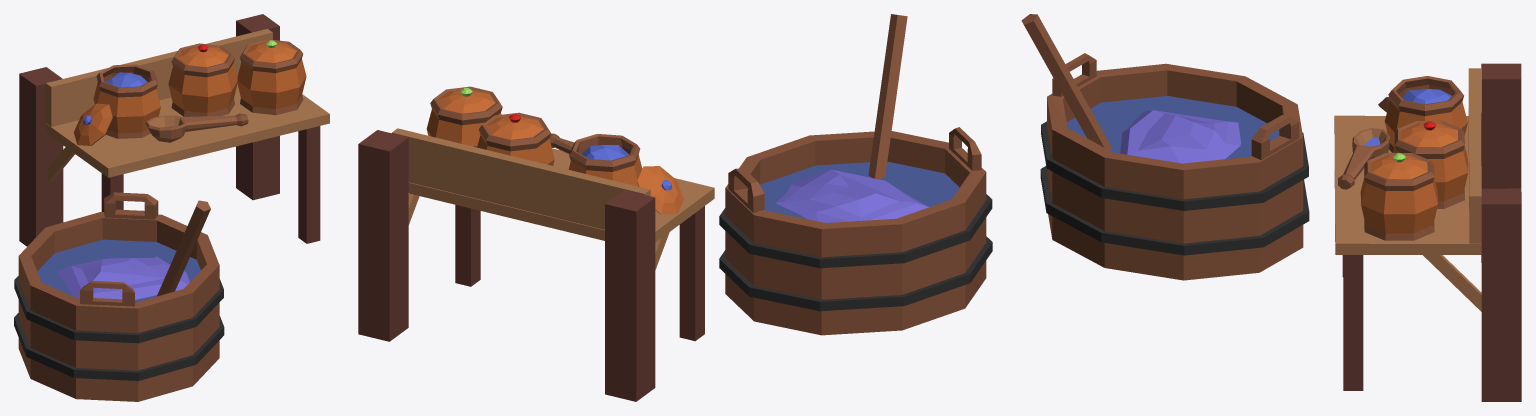
The model's file is fabric_coloring_1.fbx.
3 views of the same model, side by side, from view 1: azimuth 30°, elevation 25°; view 2: azimuth 150°, elevation 25°; view 3: azimuth 270°, elevation 25° (orthographic). The views are drawn at different scales.
Visible parts, largest first — view 1: bucket.001, bench.001, spoon, fabric.003; view 2: bench.001, bucket.001, fabric.003, spoon; view 3: bucket.001, bench.001, spoon, fabric.003.
Boxes of the visible parts, left/top/right/bottom form: bucket.001: left=14, top=192, right=224, bottom=401; bench.001: left=19, top=14, right=329, bottom=246; spoon: left=73, top=39, right=306, bottom=145; fabric.003: left=37, top=200, right=210, bottom=302; bench.001: left=358, top=128, right=714, bottom=401; bucket.001: left=719, top=127, right=992, bottom=335; fabric.003: left=760, top=14, right=959, bottom=222; spoon: left=426, top=86, right=683, bottom=214; bucket.001: left=1040, top=53, right=1309, bottom=280; bench.001: left=1334, top=63, right=1521, bottom=401; spoon: left=1338, top=76, right=1468, bottom=240; fabric.003: left=1021, top=14, right=1279, bottom=163.
Bounding box in the file's own units: 131 × 63.5 × 124.
